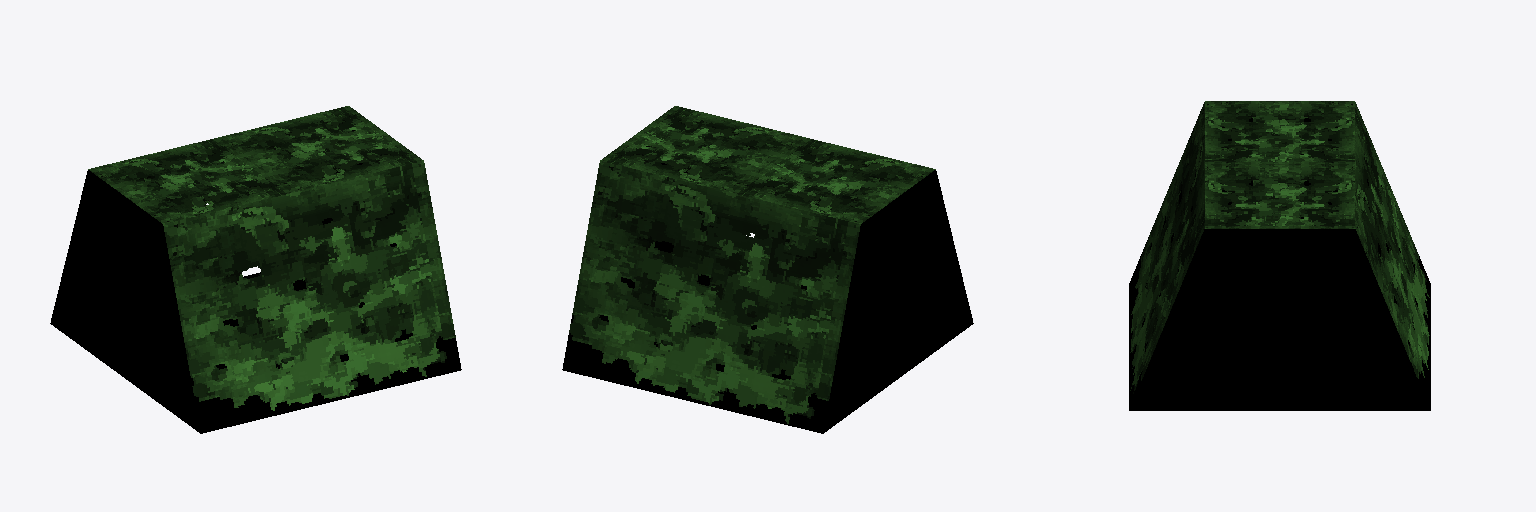
The picture shows the model from 3 angles: view 1: azimuth 30°, elevation 25°; view 2: azimuth 150°, elevation 25°; view 3: azimuth 270°, elevation 25°; orthographic projection.
Visible parts, largest first — view 1: Object.1; view 2: Object.1; view 3: Object.1.
Part boxes in pixels (x1,y1,x2,y2): Object.1: (50,106,461,433); Object.1: (562,106,973,433); Object.1: (1129,101,1430,410).
Size of the model in its own units: 1 by 0.6666 by 1.
3 materials, 2 textured.